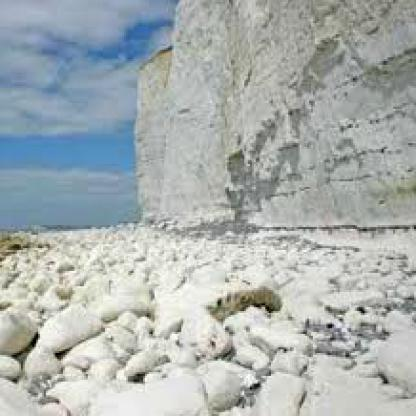Sedimentary_Chalk: (290, 0, 414, 227), (175, 0, 272, 224), (134, 61, 172, 225), (80, 378, 233, 414), (300, 357, 395, 414), (36, 292, 103, 345), (172, 300, 229, 356), (307, 275, 382, 307), (380, 322, 414, 382), (101, 280, 149, 317), (248, 317, 307, 347), (0, 300, 27, 362), (21, 345, 59, 374)
